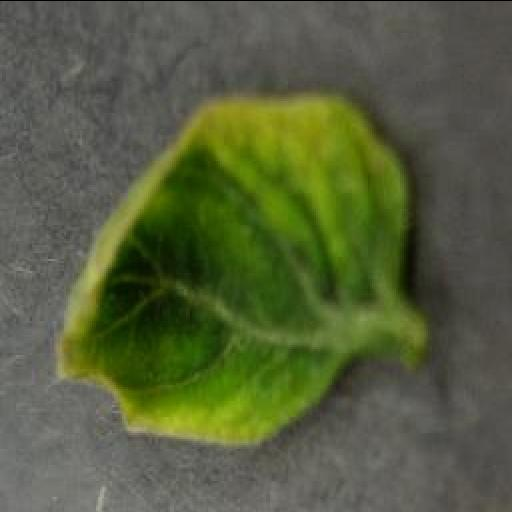disease_tomato: (52, 94, 410, 448)
